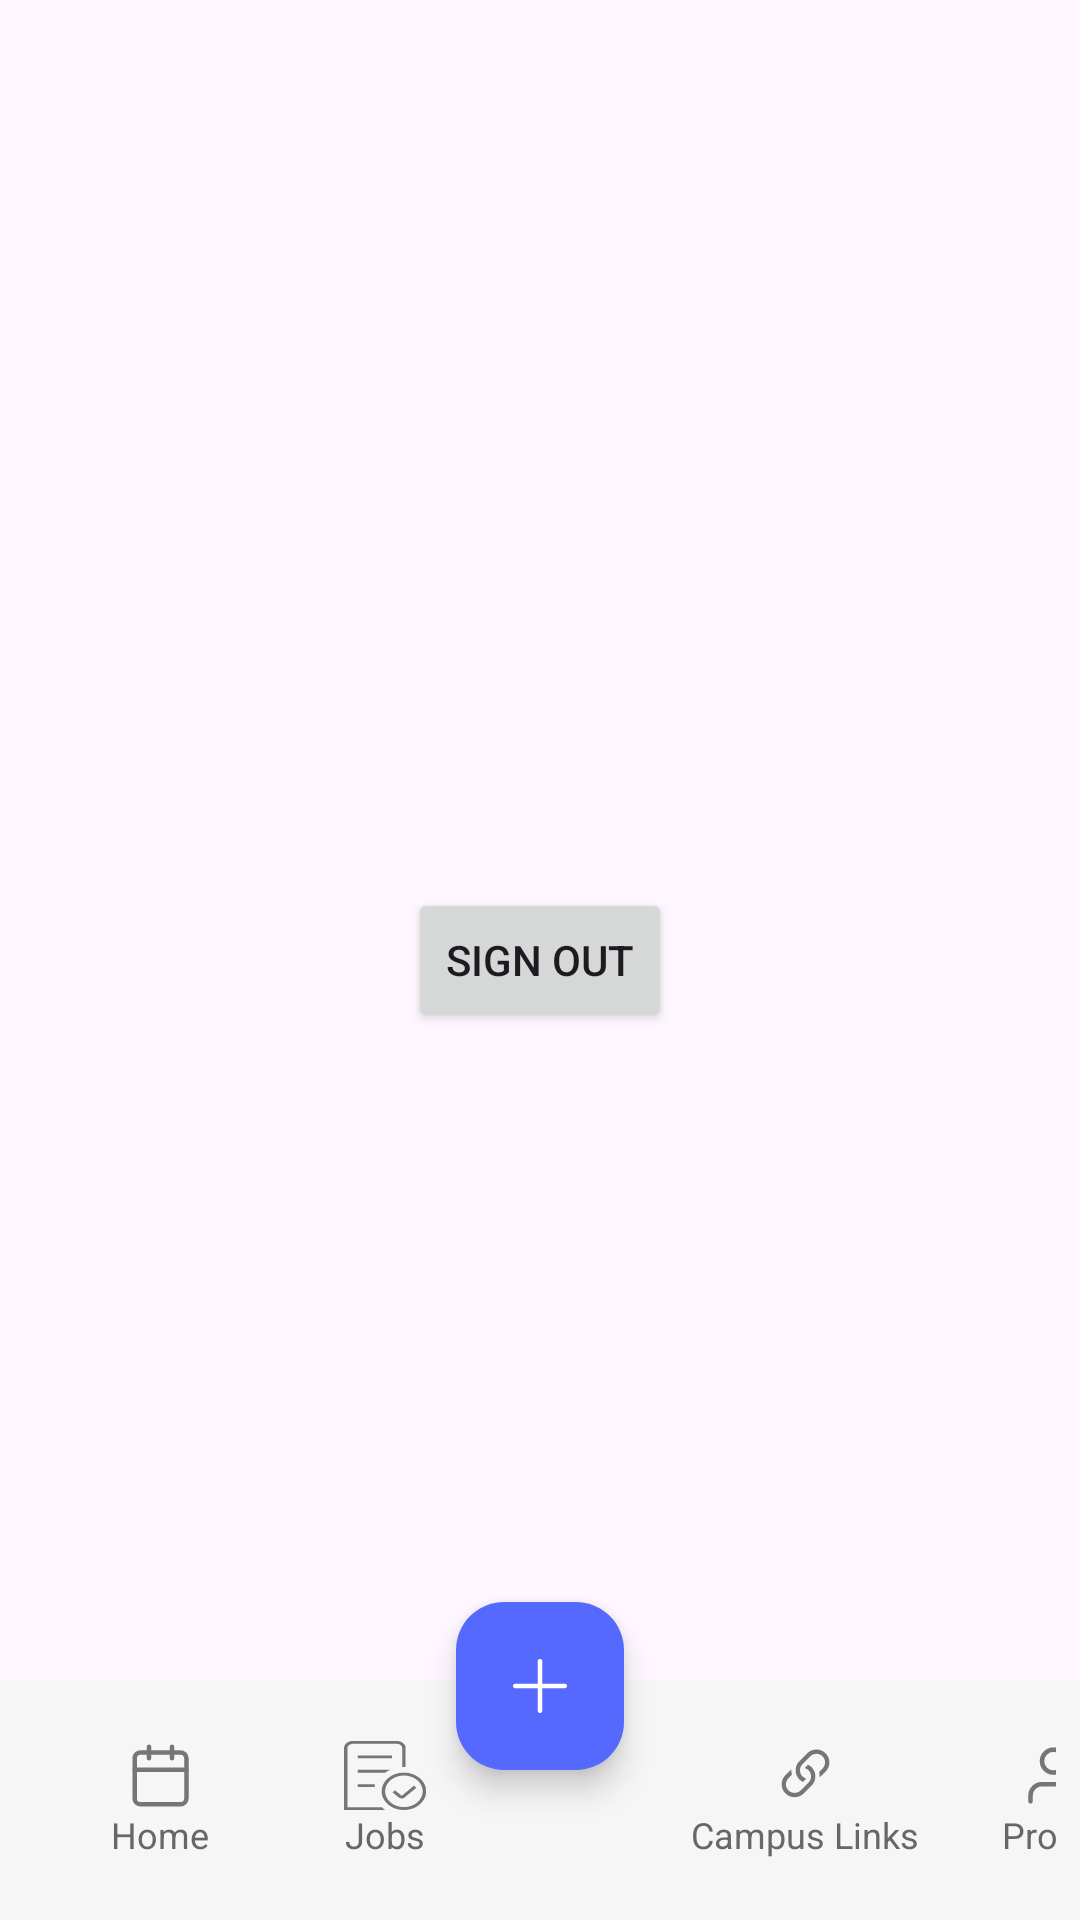

Icons on this 1080px×1920px Android screen, each with the point to tap as (x=x, y=y):
events: (x=160, y=1775)
plus: (x=540, y=1686)
